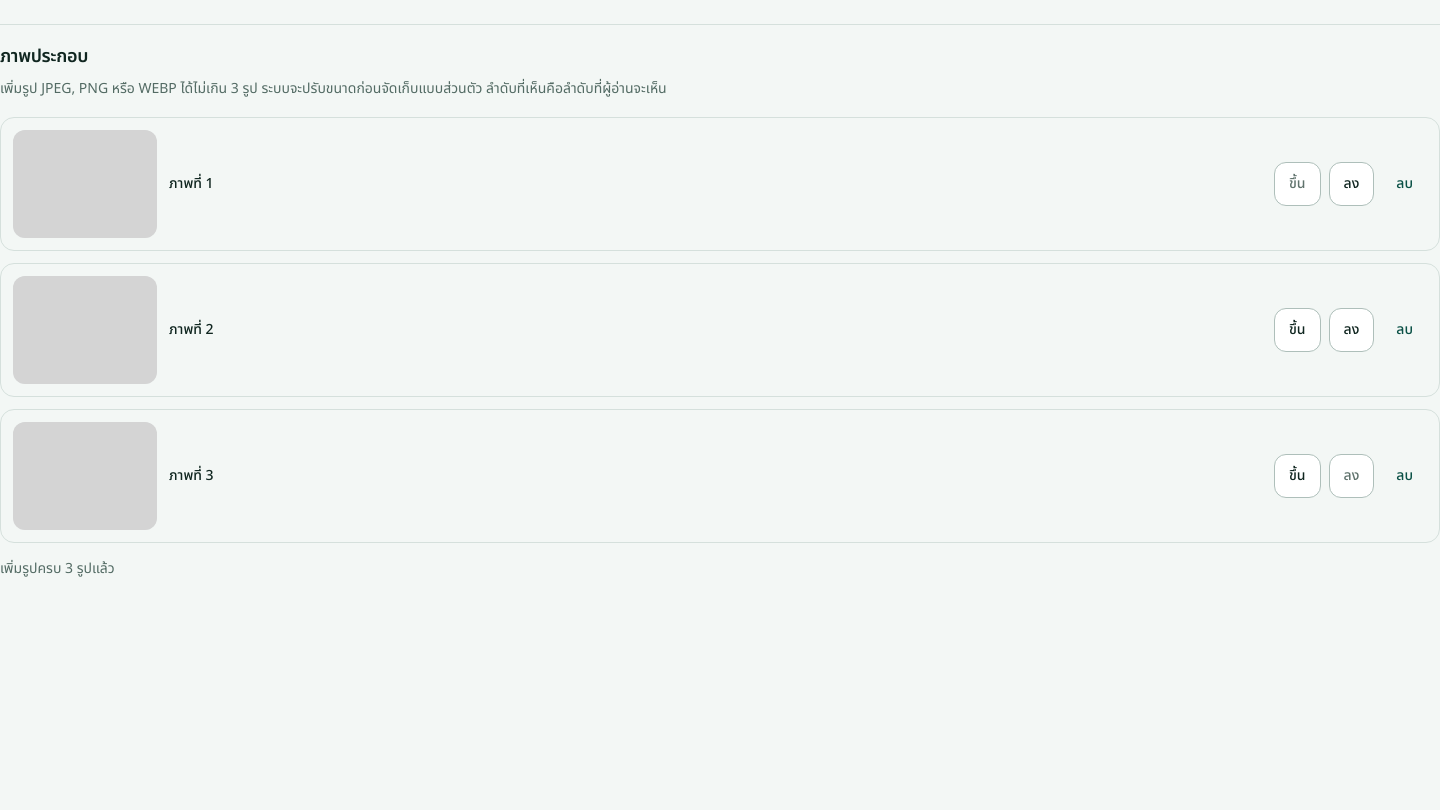
Test: Hospital content draft image manager › asks before removing, then removes through the server
The width and height of the screenshot is (1440, 810).
Click the 2nd button "ลบ". click: click(1405, 330)
box: left=1382, top=308, right=1427, bottom=352
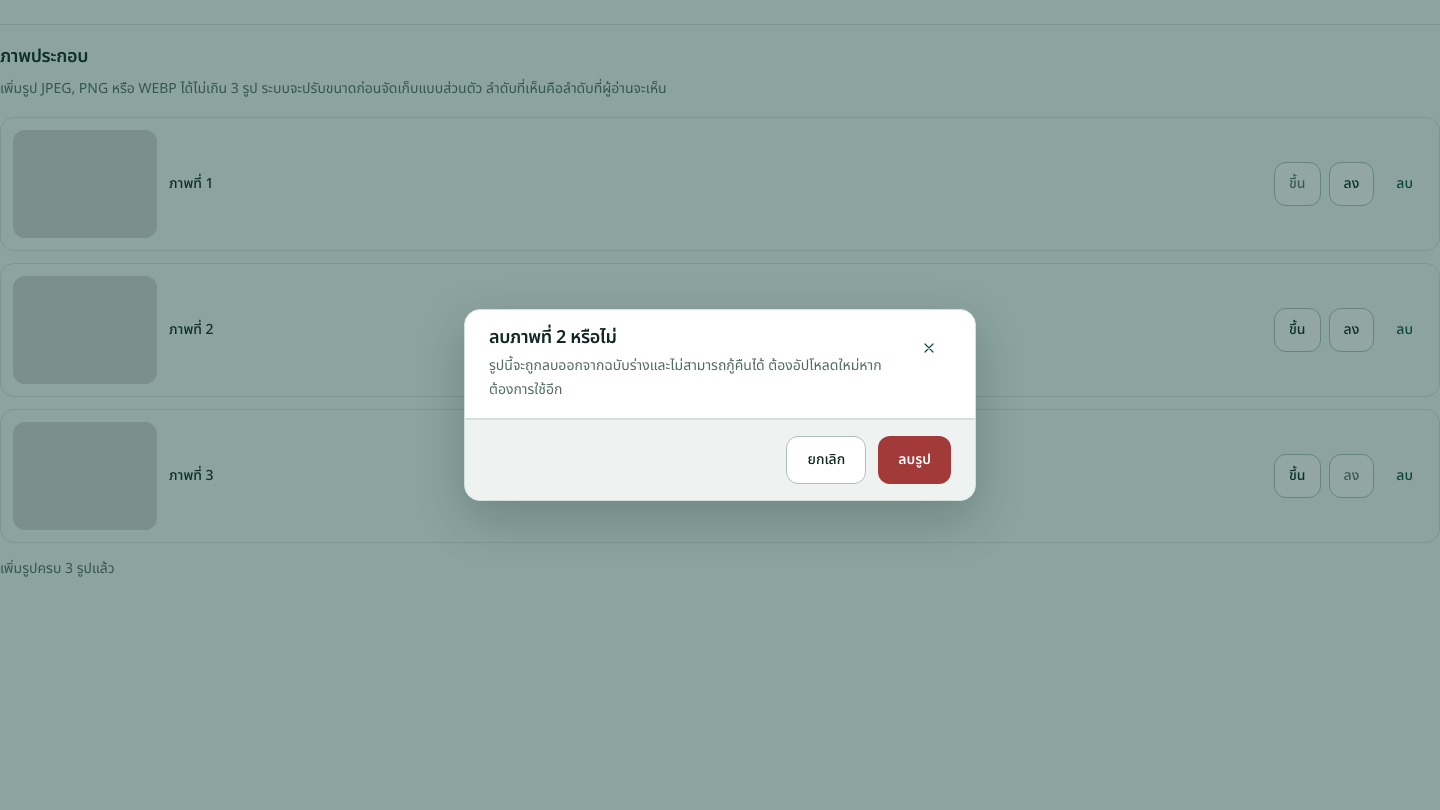
expect the dialog shows "ลบภาพที่ 2 หรือไม่": met, box left=489, top=324, right=616, bottom=351
Click the button "ลบรูป". click: click(915, 460)
box: left=878, top=436, right=951, bottom=484
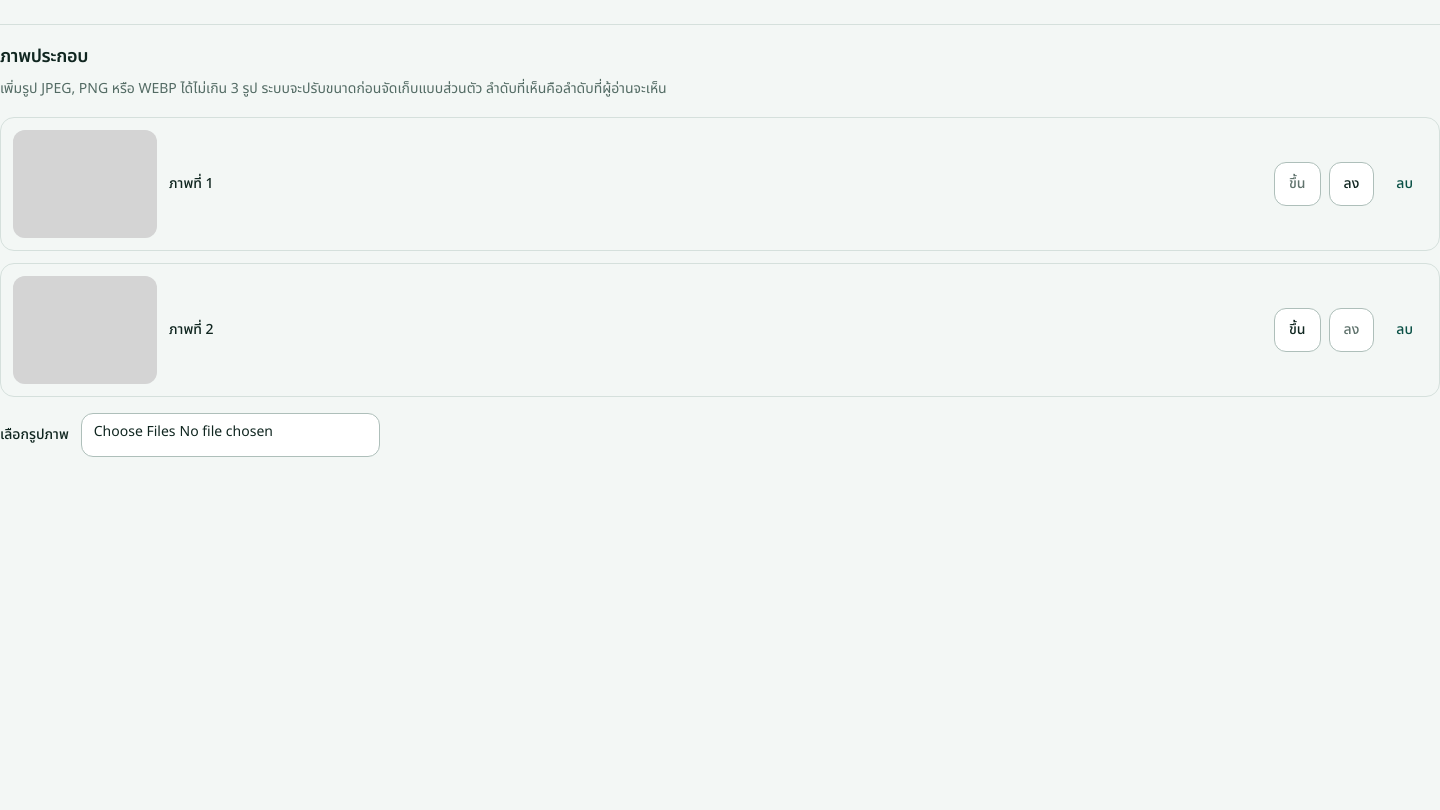
expect the file field with id "hospital-content-image-files" is shown: met, box left=81, top=413, right=380, bottom=457
